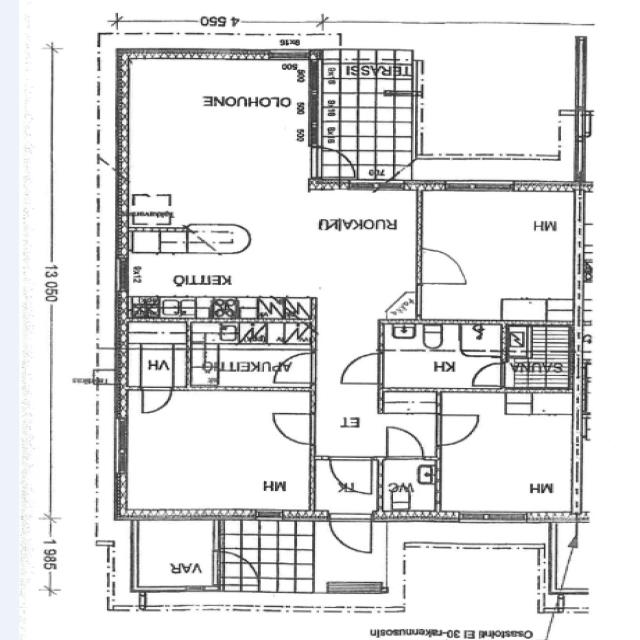door: (377, 441, 437, 519), (413, 241, 471, 287), (324, 509, 377, 556), (324, 453, 378, 499), (264, 408, 320, 448), (378, 422, 430, 462), (431, 408, 482, 447), (338, 349, 386, 390), (466, 360, 507, 390), (136, 385, 175, 416)
window: (134, 588, 205, 614), (455, 508, 539, 528), (569, 103, 598, 141), (152, 583, 218, 599)
zone: (116, 387, 316, 519), (414, 188, 584, 324), (435, 389, 582, 520), (116, 228, 288, 321), (379, 321, 504, 392), (130, 516, 222, 592), (187, 340, 318, 390), (116, 320, 192, 390), (504, 322, 572, 391), (376, 457, 439, 519), (378, 387, 443, 416)
